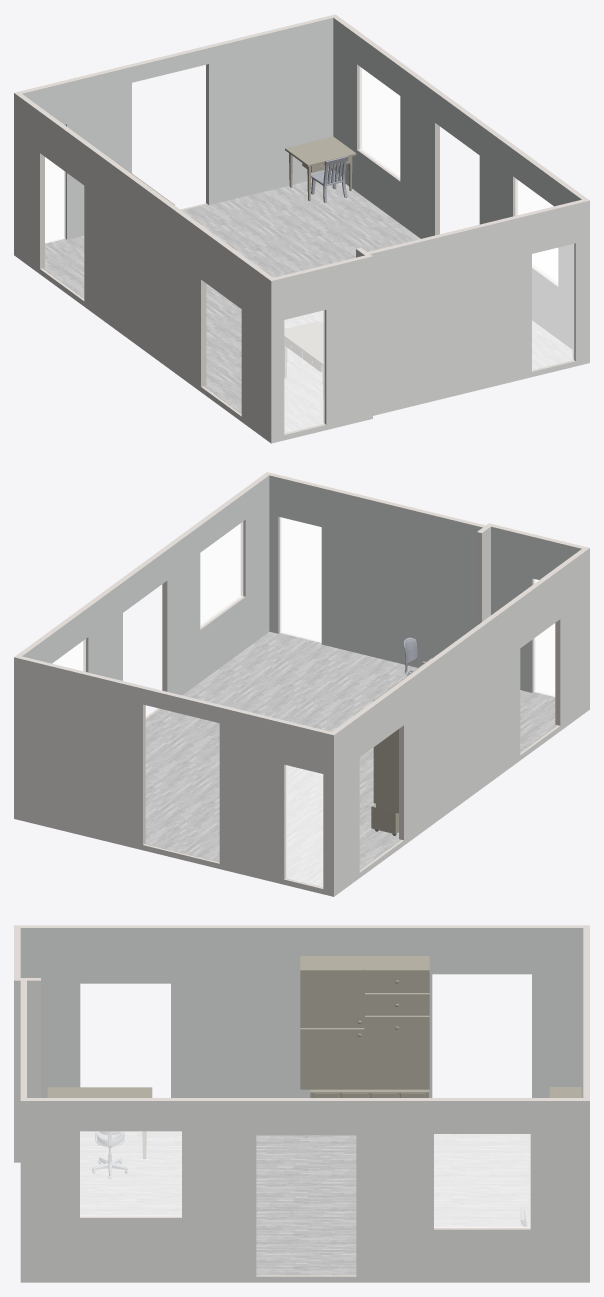
File: Entrance_room.glb
3 views of the same model, one above another, from view 1: azimuth 30°, elevation 25°; view 2: azimuth 150°, elevation 25°; view 3: azimuth 270°, elevation 25° (orthographic). The views are drawn at different scales.
Visible parts, largest first — view 1: wall_5, wall_1, wall_15, floor_Other, wall_13, wall_2, door_0, door_3, door_1, door_4, window_0, window_2 (+12 smaller); view 2: wall_4, wall_5, floor_Other, wall_9, wall_13, door_0, door_3, wall_11, door_2, door_5, window_1, window_3 (+12 smaller); view 3: wall_3, wall_17, floor_Other, storage_cabinet_tall20, window_0, window_2, window_1, window_3, wall_14, wall_18, wall_19, wall_7 (+5 smaller).
Part boxes in pixels (left/top/right/bottom): wall_5: left=14, top=93, right=271, bottom=443; wall_1: left=370, top=200, right=589, bottom=415; wall_15: left=22, top=18, right=333, bottom=239; floor_Other: left=43, top=180, right=573, bottom=433; wall_13: left=333, top=18, right=581, bottom=349; wall_2: left=271, top=256, right=372, bottom=443; door_0: left=532, top=244, right=573, bottom=369; door_3: left=532, top=244, right=573, bottom=369; door_1: left=284, top=310, right=324, bottom=433; door_4: left=284, top=310, right=324, bottom=432; window_0: left=360, top=67, right=399, bottom=178; window_2: left=360, top=67, right=399, bottom=178; wall_4: left=14, top=657, right=333, bottom=896; wall_5: left=334, top=548, right=589, bottom=896; floor_Other: left=145, top=631, right=557, bottom=887; wall_9: left=269, top=475, right=482, bottom=667; wall_13: left=22, top=475, right=269, bottom=695; door_0: left=280, top=517, right=321, bottom=642; door_3: left=280, top=517, right=321, bottom=642; wall_11: left=491, top=526, right=581, bottom=692; door_2: left=286, top=765, right=322, bottom=886; door_5: left=286, top=765, right=322, bottom=886; window_1: left=200, top=522, right=242, bottom=626; window_3: left=200, top=522, right=242, bottom=626; wall_3: left=20, top=1101, right=589, bottom=1282; wall_17: left=20, top=928, right=583, bottom=1097; floor_Other: left=80, top=1131, right=530, bottom=1275; storage_cabinet_tall20: left=300, top=956, right=429, bottom=1089; window_0: left=434, top=1134, right=530, bottom=1227; window_2: left=434, top=1134, right=530, bottom=1227; window_1: left=80, top=1131, right=181, bottom=1216; window_3: left=80, top=1131, right=181, bottom=1216; wall_14: left=21, top=1098, right=589, bottom=1276; wall_18: left=15, top=925, right=588, bottom=927; wall_19: left=27, top=980, right=40, bottom=1097; wall_7: left=14, top=980, right=20, bottom=1162.
Size of the model in its own units: 6.35 by 3.07 by 8.81.
25 materials, 1 textured.
